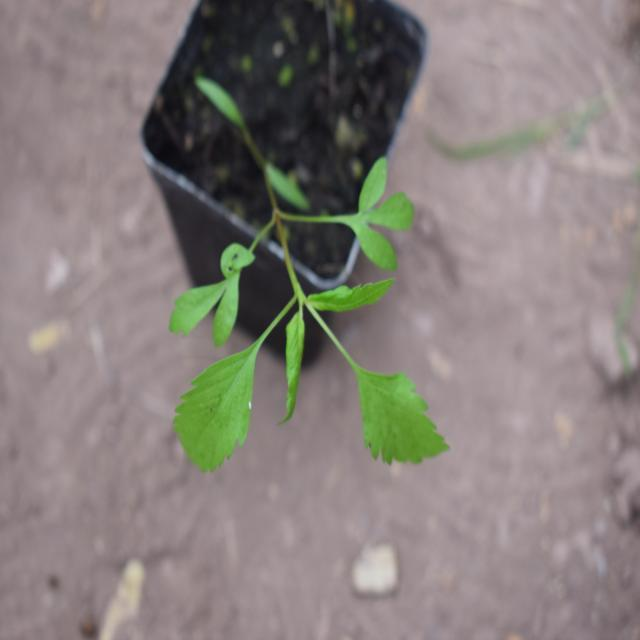Bidens pilosa: (148, 168, 463, 487)
